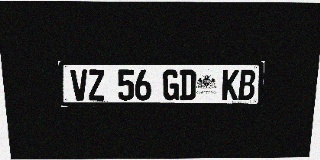5: (117, 70, 134, 100)
6: (135, 70, 151, 100)
B: (238, 70, 256, 100)
D: (179, 70, 196, 100)
G: (163, 70, 179, 100)
K: (222, 70, 239, 100)
V: (70, 70, 88, 101)
Z: (88, 70, 105, 101)
